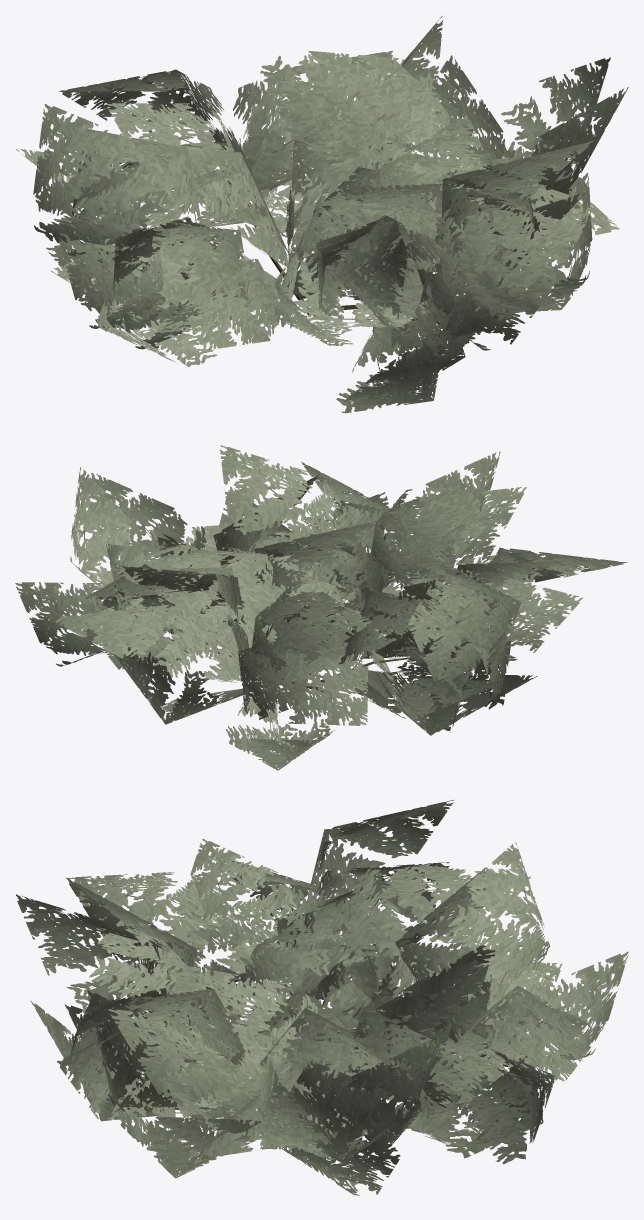
File: SM_CN_Sage_C_LOD2.fbx
3 views of the same model, one above another, from view 1: azimuth 30°, elevation 25°; view 2: azimuth 150°, elevation 25°; view 3: azimuth 270°, elevation 25° (orthographic). The views are drawn at different scales.
Visible parts, largest first — view 1: SM_CN_Sage_C_LOD2; view 2: SM_CN_Sage_C_LOD2; view 3: SM_CN_Sage_C_LOD2.
Boxes of the visible parts, left/top/right/bottom form: SM_CN_Sage_C_LOD2: left=16, top=15, right=628, bottom=413; SM_CN_Sage_C_LOD2: left=15, top=445, right=627, bottom=770; SM_CN_Sage_C_LOD2: left=16, top=800, right=628, bottom=1195.
Bounding box in the file's own units: 0.84 × 0.8137 × 0.34.
